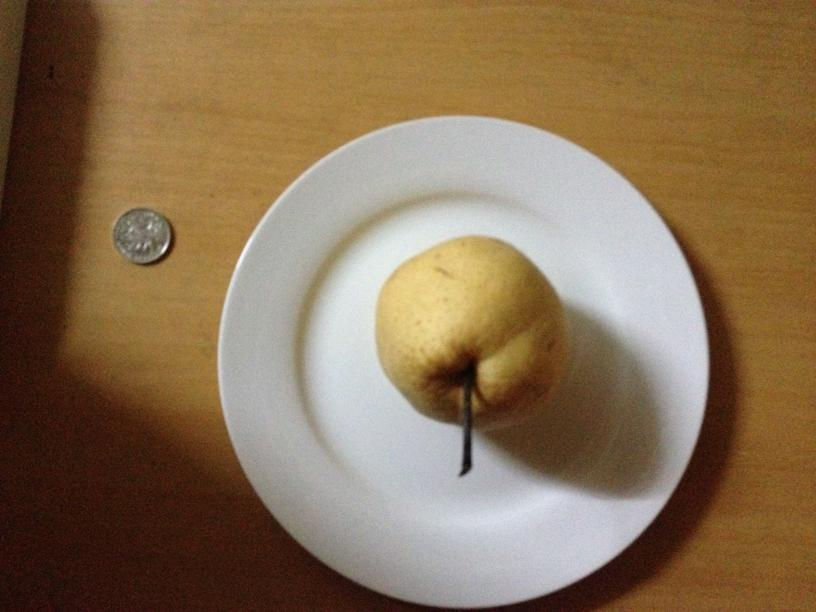coin: (113, 207, 172, 265)
pear: (376, 234, 567, 432)
